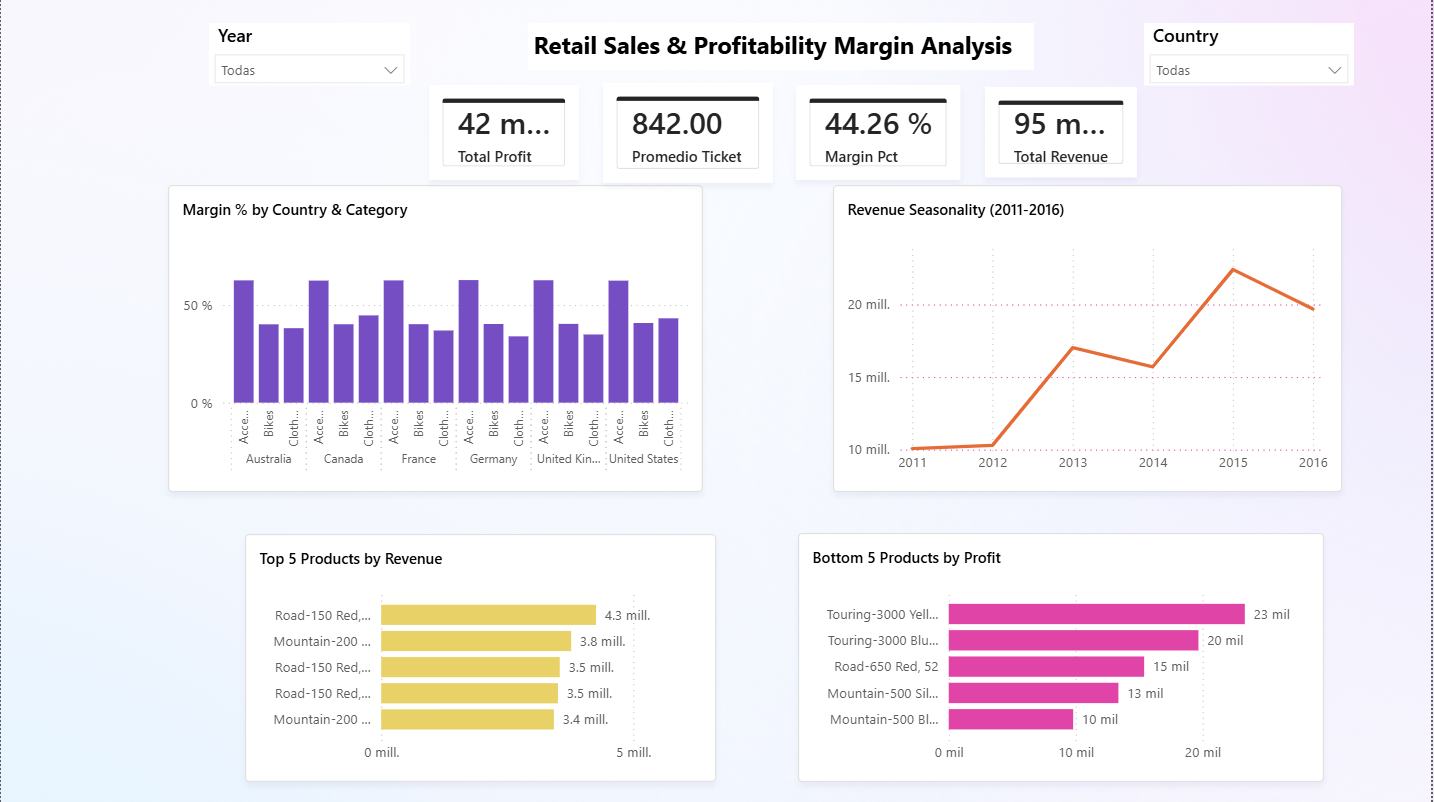

Layout of this report page (visuals, bound fields, positions):
{"tool":"powerbi","page":{"name":"Página 1","canvas":[1280,720],"ordinal":0},"visuals":[{"type":"clusteredColumnChart","title":"Margin % by Country & Category","fields":{"Y":["Tabla_Final.Margin Pct"],"Category":["Tabla_Final.Country","Tabla_Final.Product_Category"]},"box":[149.6,166.6,479.1,274.9],"z":0},{"type":"cardVisual","fields":{"Data":["Tabla_Final.Total Revenue"]},"box":[881.2,78.9,136.1,81.5],"z":1000},{"type":"cardVisual","fields":{"Data":["Tabla_Final.Total Profit"]},"box":[383.3,77.1,134.3,85.1],"z":2000},{"type":"cardVisual","fields":{"Data":["Tabla_Final.Margin Pct"]},"box":[712.2,77.1,147.8,85.1],"z":3000},{"type":"cardVisual","fields":{"Data":["Tabla_Final.Promedio Ticket"]},"box":[538.8,74.9,152.2,89.6],"z":4000},{"type":"clusteredBarChart","title":"Top 5 Products by Revenue","fields":{"Category":["Tabla_Final.Product"],"Y":["Sum(Tabla_Final.Revenue)"]},"box":[218.5,479.1,421.8,222.1],"z":5000},{"type":"clusteredBarChart","title":"Bottom 5 Products by Profit","fields":{"Category":["Tabla_Final.Product"],"Y":["Tabla_Final.Total Profit"]},"box":[713.7,478.2,471,223],"z":6000},{"type":"lineChart","title":"Revenue Seasonality (2011-2016)","fields":{"Category":["Tabla_Final.Date.Variación.Jerarquía de fechas.Año","Tabla_Final.Date.Variación.Jerarquía de fechas.Trimestre","Tabla_Final.Date.Variación.Jerarquía de fechas.Mes","Tabla_Final.Date.Variación.Jerarquía de fechas.Día"],"Y":["Tabla_Final.Total Revenue"]},"box":[745.1,166.6,455.8,274.9],"z":7000},{"type":"slicer","fields":{"Values":["Tabla_Final.Year"]},"box":[186.3,21.5,180,55.5],"z":8000},{"type":"textbox","box":[471.9,21.5,453.1,42.1],"z":9000},{"type":"slicer","fields":{"Values":["Tabla_Final.Country"]},"box":[1023.6,21.5,188.1,55.5],"z":10000}]}

Visuals, with their boxes in screenshot pixels (x1, y1, x2, y2), scaled from the page's 1280x720 canvas onto the 1434x802 screenshot:
"Margin % by Country & Category" clusteredColumnChart: 168:186:704:492
cardVisual - Tabla_Final.Total Revenue: 987:88:1140:179
cardVisual - Tabla_Final.Total Profit: 429:86:580:181
cardVisual - Tabla_Final.Margin Pct: 798:86:963:181
cardVisual - Tabla_Final.Promedio Ticket: 604:83:774:183
"Top 5 Products by Revenue" clusteredBarChart: 245:534:717:781
"Bottom 5 Products by Profit" clusteredBarChart: 800:533:1327:781
"Revenue Seasonality (2011-2016)" lineChart: 835:186:1345:492
slicer - Tabla_Final.Year: 209:24:410:86
textbox: 529:24:1036:71
slicer - Tabla_Final.Country: 1147:24:1357:86
